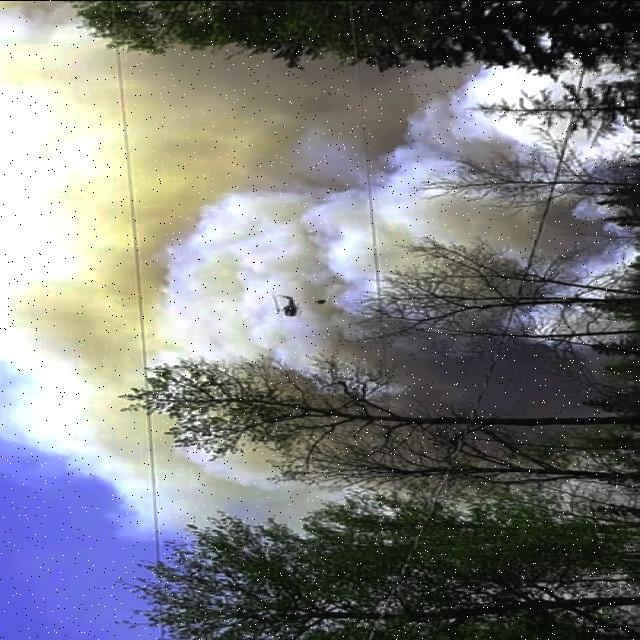asap: (140, 68, 440, 362), (2, 29, 126, 479), (463, 69, 621, 341), (134, 460, 335, 529)
